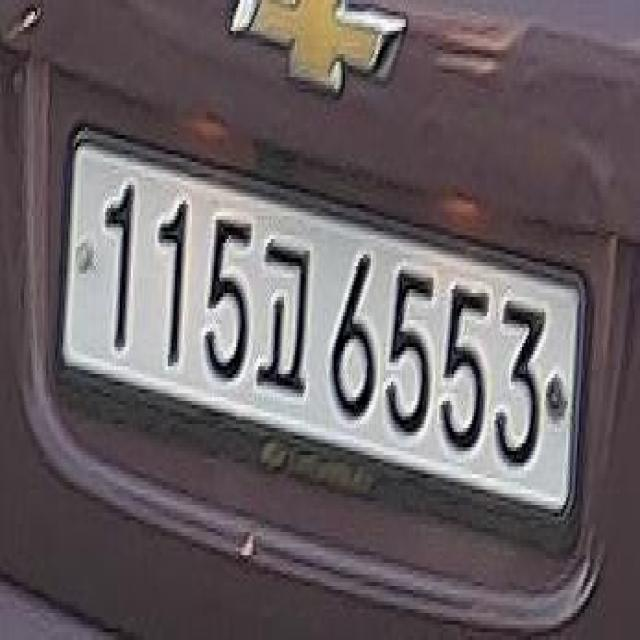illegal_plate: (56, 128, 583, 532)
